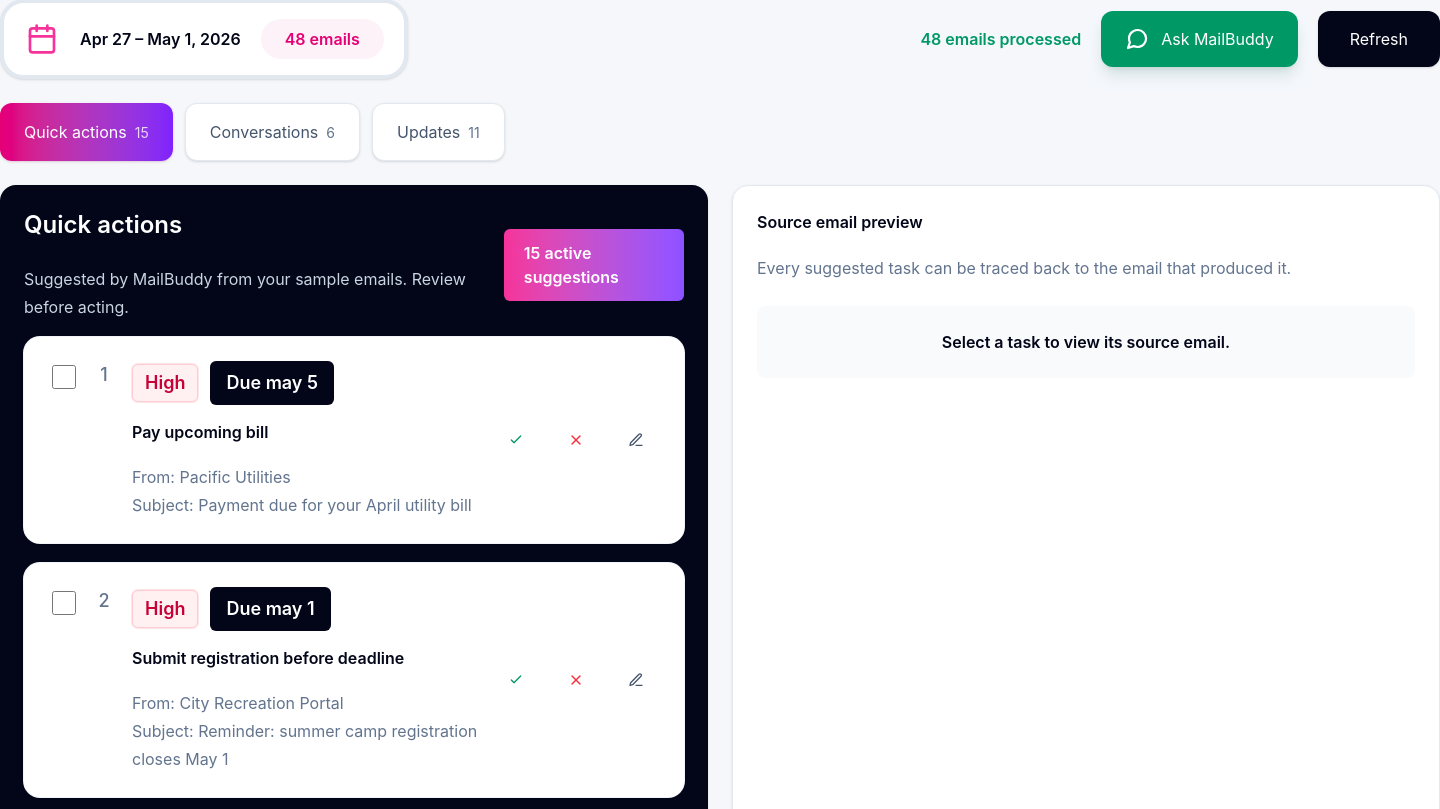
Test: Dashboard integration › opens conversation context, supports reply links, and moves reviewed conversations
What coordinates should you click on to do the following:
click the button "Conversations6"
I would click on:
 (272, 132)
Its box is [185,103,360,161].
(page scrolled)
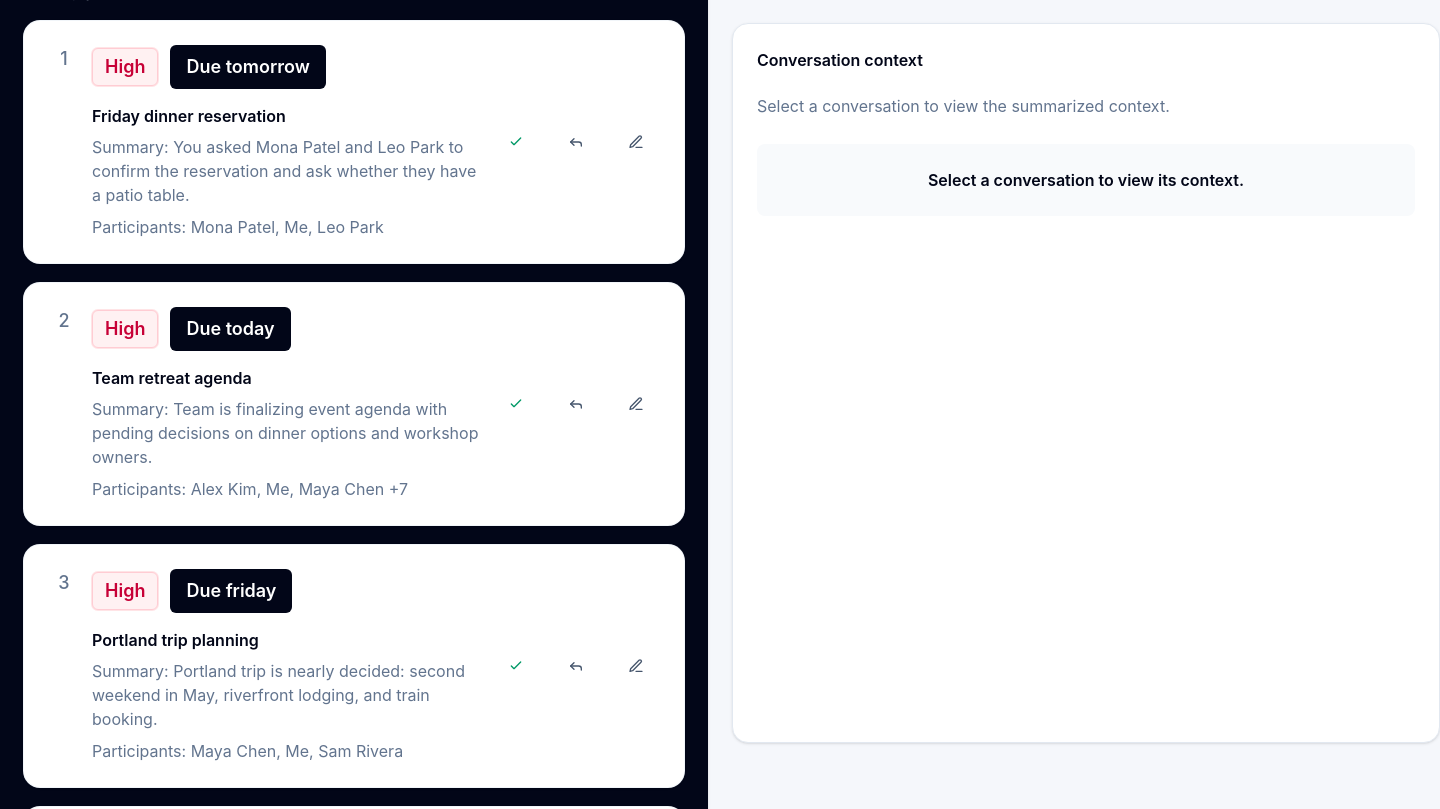
What coordinates should you click on to do the following:
click the text "Team retreat agenda"
I would click on:
 (354, 404)
Its box is [24,283,684,525].
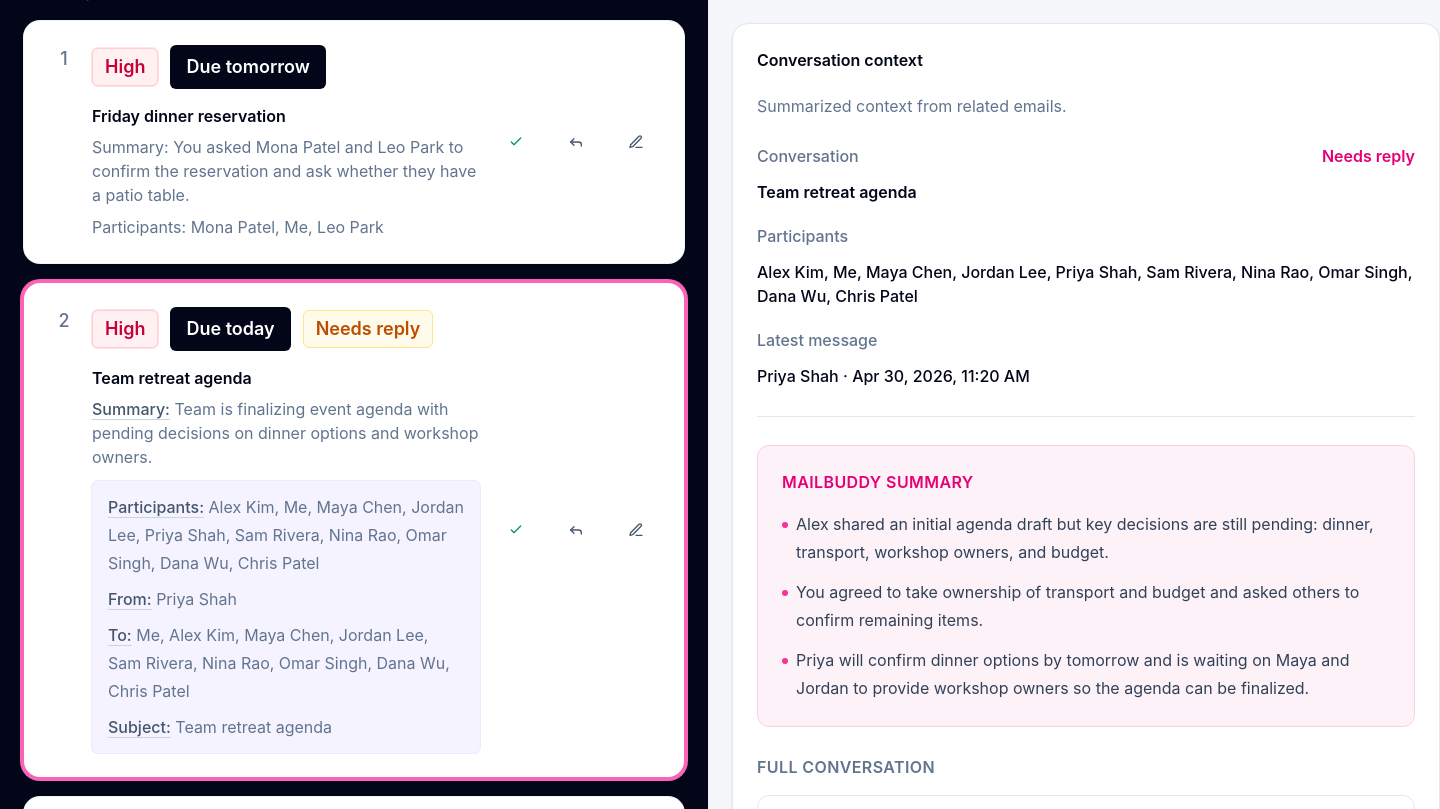
Expected: the heading "Conversation context" is shown, [757,50,923,70]
Expected: the text "Alex shared an initial agenda draft" is shown, [796,514,1374,562]
What coordinates should you click on to do the following:
click the 2nd button named "Mark as reviewed"
I would click on:
 (516, 530)
Its box is [496,510,536,550].
(page scrolled)
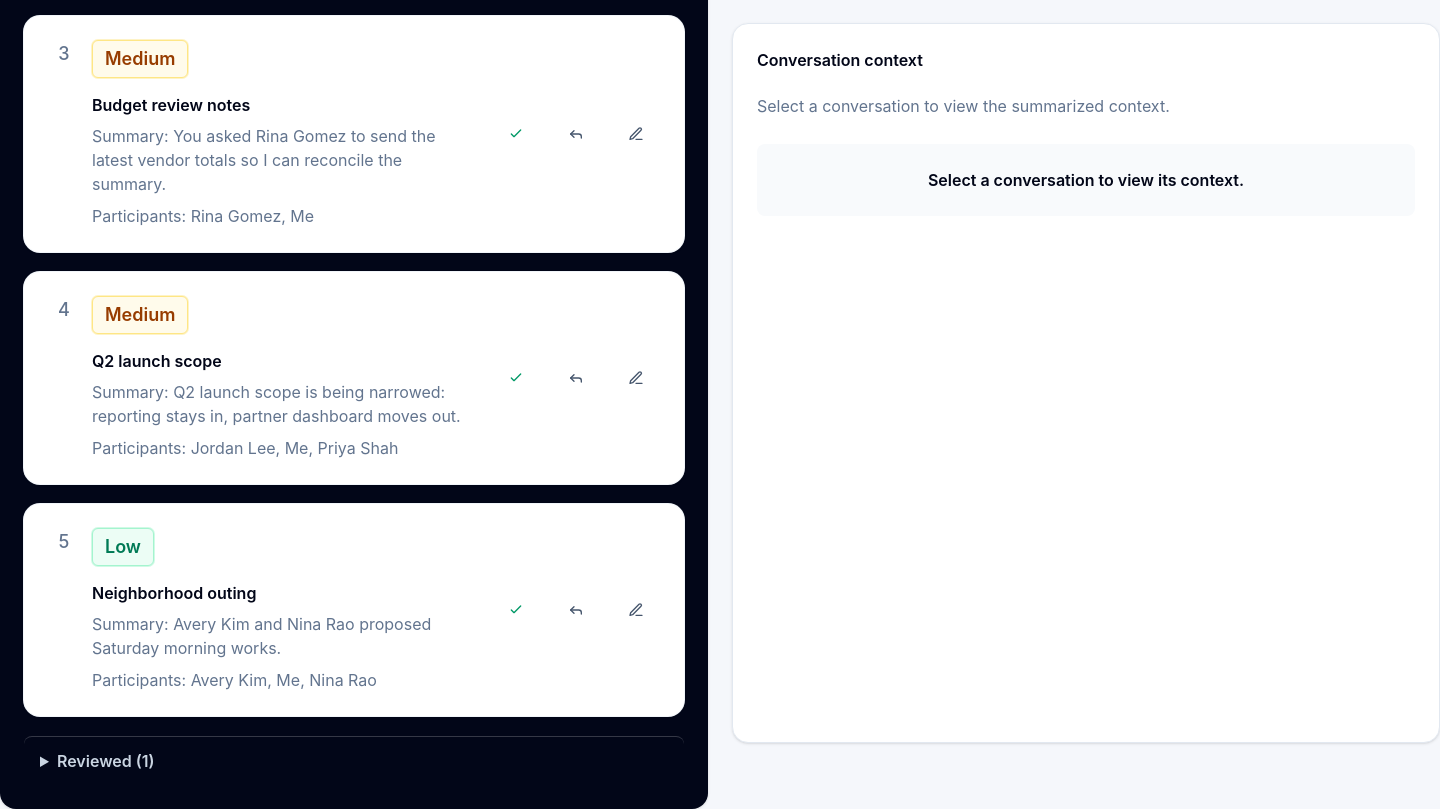
Expected: the heading "Reviewed (1)" is shown, [57,751,154,771]
